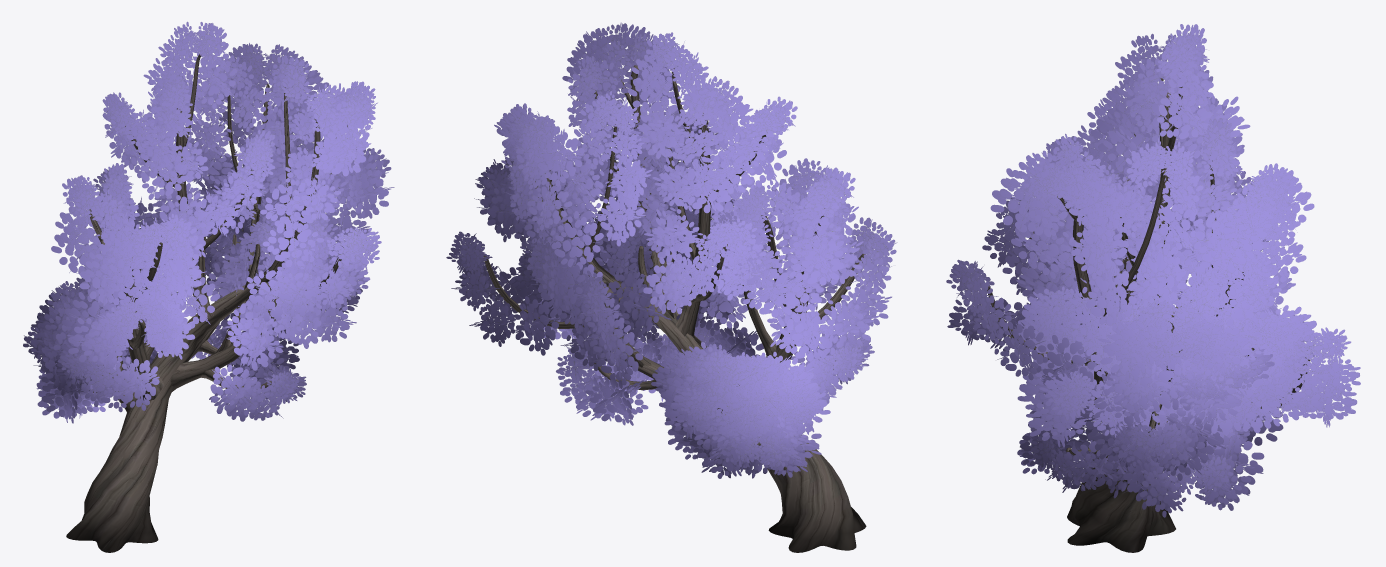
The model's file is TwistedTree_1_jac.gltf.
3 views of the same model, side by side, from view 1: azimuth 30°, elevation 25°; view 2: azimuth 150°, elevation 25°; view 3: azimuth 270°, elevation 25° (orthographic). The views are drawn at different scales.
Visible parts, largest first — view 1: TwistedTree_1; view 2: TwistedTree_1; view 3: TwistedTree_1.
Boxes of the visible parts, x1=… form: TwistedTree_1: x1=23, y1=21, x2=394, y2=552; TwistedTree_1: x1=446, y1=22, x2=897, y2=552; TwistedTree_1: x1=946, y1=24, x2=1360, y2=552.
Size of the model in its own units: 13.52 by 16.73 by 11.55.
2 materials, 2 textured.
